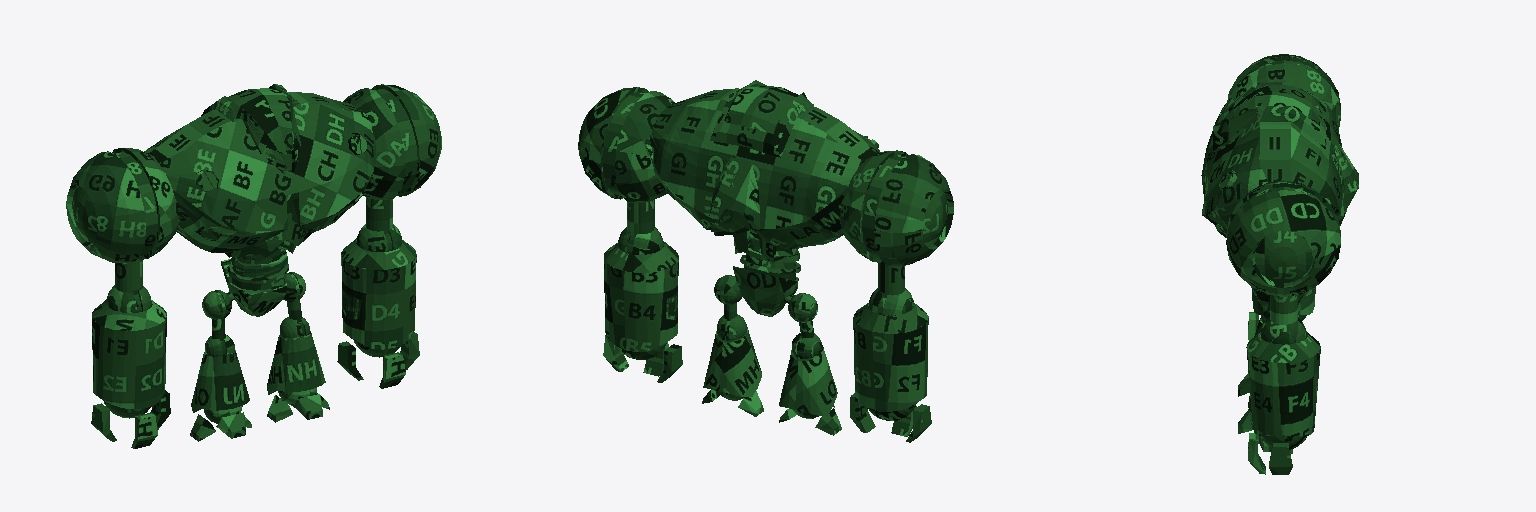
3 views of the same model, side by side, from view 1: azimuth 30°, elevation 25°; view 2: azimuth 150°, elevation 25°; view 3: azimuth 270°, elevation 25° (orthographic).
Visible parts, largest first — view 1: UpperTorsoGroup TopTorso, L_ArmGroup L_Shoulder1, L_ArmGroup L_Shoulder, L_ArmGroup L_Forearm, L_ArmGroup L_Forearm1, L_LegGroup L_Shin1, L_LegGroup L_Shin, HeadGroup InnerHead, OutSideHead HeadGroup, LowerTorsoGroup Stomach, Pelvis LowerTorsoGroup, UpperTorsoGroup MiddleTorso (+11 smaller); view 2: UpperTorsoGroup TopTorso, L_ArmGroup L_Shoulder1, L_ArmGroup L_Shoulder, L_ArmGroup L_Forearm, L_ArmGroup L_Forearm1, L_LegGroup L_Shin1, L_LegGroup L_Shin, OutSideHead HeadGroup, HeadGroup InnerHead, JetPackGroup OuterJetPack, Pelvis LowerTorsoGroup, LowerTorsoGroup Stomach (+12 smaller); view 3: L_ArmGroup L_Shoulder, UpperTorsoGroup TopTorso, L_ArmGroup L_Forearm, L_ArmGroup L_Shoulder1, OutSideHead HeadGroup, HeadGroup InnerHead, L_ArmGroup L_Elbow, JetPackGroup OuterJetPack, L_ArmGroup L_Bicep, L_Claw1 L_ArmGroup.
Part boxes in pixels (left/top/right/bottom): UpperTorsoGroup TopTorso: left=144, top=92, right=375, bottom=252; L_ArmGroup L_Shoulder1: left=66, top=148, right=179, bottom=263; L_ArmGroup L_Shoulder: left=343, top=84, right=441, bottom=199; L_ArmGroup L_Forearm: left=341, top=238, right=416, bottom=349; L_ArmGroup L_Forearm1: left=92, top=300, right=166, bottom=408; L_LegGroup L_Shin1: left=191, top=350, right=249, bottom=412; L_LegGroup L_Shin: left=267, top=331, right=325, bottom=394; HeadGroup InnerHead: left=227, top=88, right=293, bottom=170; OutSideHead HeadGroup: left=201, top=84, right=301, bottom=174; LowerTorsoGroup Stomach: left=227, top=247, right=288, bottom=290; Pelvis LowerTorsoGroup: left=221, top=258, right=286, bottom=316; UpperTorsoGroup MiddleTorso: left=225, top=194, right=311, bottom=257; UpperTorsoGroup TopTorso: left=645, top=88, right=880, bottom=248; L_ArmGroup L_Shoulder1: left=840, top=150, right=953, bottom=265; L_ArmGroup L_Shoulder: left=578, top=87, right=674, bottom=202; L_ArmGroup L_Forearm: left=604, top=241, right=678, bottom=351; L_ArmGroup L_Forearm1: left=853, top=303, right=928, bottom=411; L_LegGroup L_Shin1: left=779, top=345, right=837, bottom=415; L_LegGroup L_Shin: left=703, top=327, right=761, bottom=396; OutSideHead HeadGroup: left=710, top=80, right=813, bottom=157; HeadGroup InnerHead: left=725, top=86, right=798, bottom=133; JetPackGroup OuterJetPack: left=709, top=157, right=759, bottom=227; Pelvis LowerTorsoGroup: left=733, top=266, right=798, bottom=316; LowerTorsoGroup Stomach: left=740, top=229, right=800, bottom=280; L_ArmGroup L_Shoulder: left=1226, top=180, right=1340, bottom=296; UpperTorsoGroup TopTorso: left=1201, top=82, right=1346, bottom=228; L_ArmGroup L_Forearm: left=1246, top=331, right=1320, bottom=435; L_ArmGroup L_Shoulder1: left=1227, top=54, right=1340, bottom=129; OutSideHead HeadGroup: left=1213, top=82, right=1325, bottom=151; HeadGroup InnerHead: left=1218, top=85, right=1320, bottom=131; L_ArmGroup L_Elbow: left=1261, top=318, right=1305, bottom=344; JetPackGroup OuterJetPack: left=1333, top=135, right=1358, bottom=209; L_ArmGroup L_Bicep: left=1270, top=295, right=1297, bottom=324; L_Claw1 L_ArmGroup: left=1269, top=443, right=1292, bottom=474.
Size of the model in its own units: 4.95 by 4.42 by 1.92.
Materials: 1 (1 with a texture image).